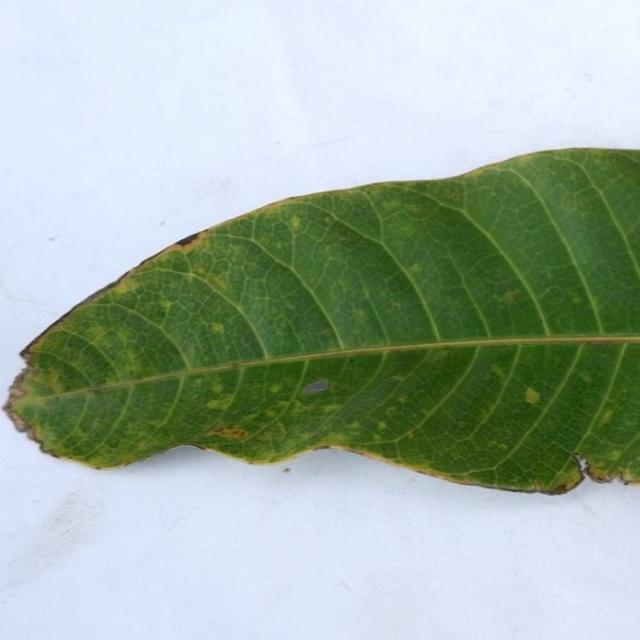Mango: (6, 148, 639, 493)
Powdery_Mildew: (105, 265, 154, 296), (515, 381, 546, 409), (583, 463, 619, 484), (7, 404, 31, 433), (41, 367, 64, 392), (84, 324, 110, 345), (213, 426, 249, 439), (174, 231, 202, 247), (616, 467, 639, 484), (303, 379, 329, 394), (574, 454, 591, 476), (8, 382, 27, 400), (585, 296, 602, 316), (208, 273, 228, 289), (489, 364, 505, 378), (502, 290, 519, 303), (599, 409, 614, 423), (205, 399, 226, 409), (578, 371, 595, 383), (149, 419, 169, 429), (209, 321, 224, 334), (210, 381, 225, 394), (387, 300, 402, 312), (481, 407, 494, 420), (531, 481, 545, 493), (354, 308, 367, 320), (159, 300, 173, 311), (347, 420, 362, 430), (289, 216, 301, 228), (324, 404, 340, 413), (609, 449, 622, 460), (268, 384, 282, 394), (265, 409, 279, 418), (391, 374, 406, 382), (89, 386, 104, 394), (409, 263, 420, 273), (371, 433, 384, 441), (377, 421, 388, 430), (397, 393, 408, 402), (193, 378, 204, 387), (214, 427, 227, 434), (320, 328, 331, 336), (385, 407, 395, 415), (572, 296, 582, 304), (405, 431, 414, 439), (324, 216, 332, 224), (498, 443, 507, 450)
